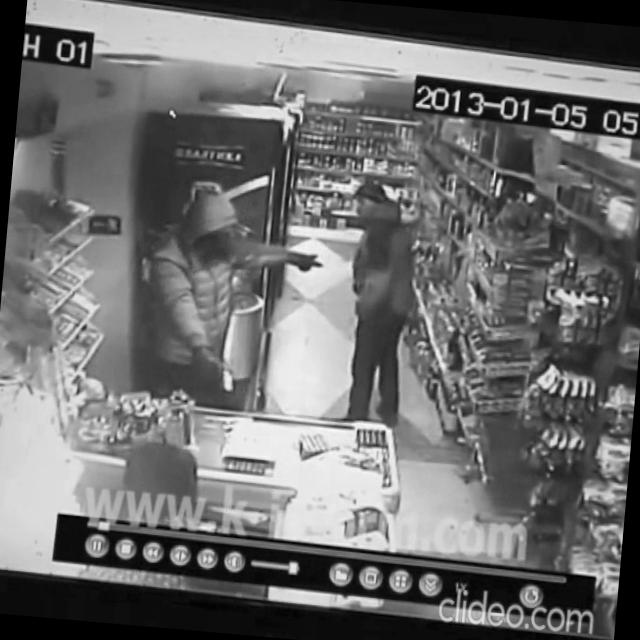gun: (218, 360, 236, 394)
person: (332, 178, 423, 426)
person with a gun: (139, 183, 328, 418)
